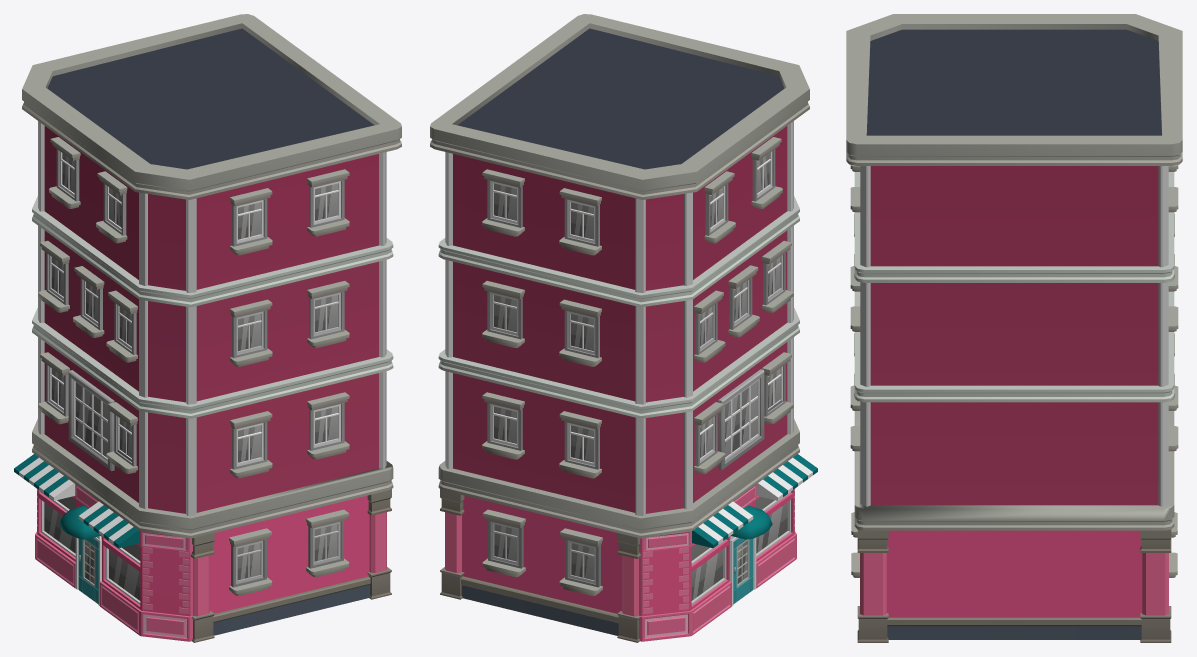
File: Building_3_3_I.fbx
3 renders of one model, left to right at view 1: azimuth 30°, elevation 25°; view 2: azimuth 150°, elevation 25°; view 3: azimuth 270°, elevation 25°, orthographic. The views are drawn at different scales.
Visible parts, largest first — view 1: Building 3_3_I; view 2: Building 3_3_I; view 3: Building 3_3_I.
Boxes of the visible parts, x1,y1,x2,y2 form: Building 3_3_I: (14,14,401,642); Building 3_3_I: (430,14,817,642); Building 3_3_I: (846,14,1182,642).
Bounding box in the file's own units: 808 × 1383 × 837.
